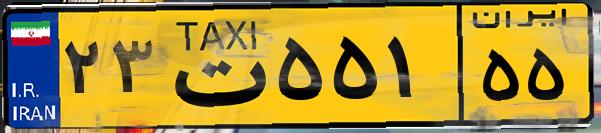1: (385, 28, 445, 110)
2: (57, 26, 110, 100)
3: (110, 28, 158, 98)
5: (270, 28, 330, 110), (330, 28, 385, 110), (475, 38, 525, 113), (525, 38, 570, 115)
ت: (158, 12, 270, 120)
